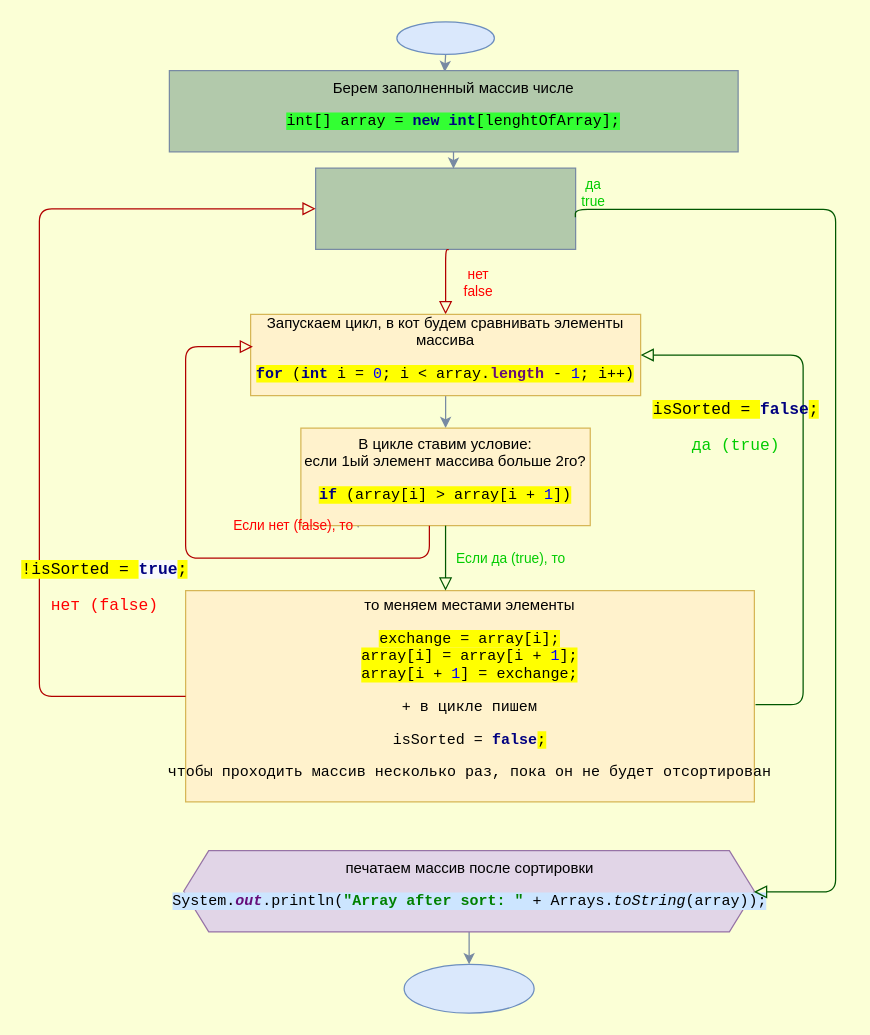
This 870x1035 diagram has some shape labels left out. The centre of each missing label's shape, as x and y in pixels:
конец: the point at 468,988
начало: the point at 445,37
Ставим условие: отсортирован ли массив? while (!isSorted): the point at 445,208
